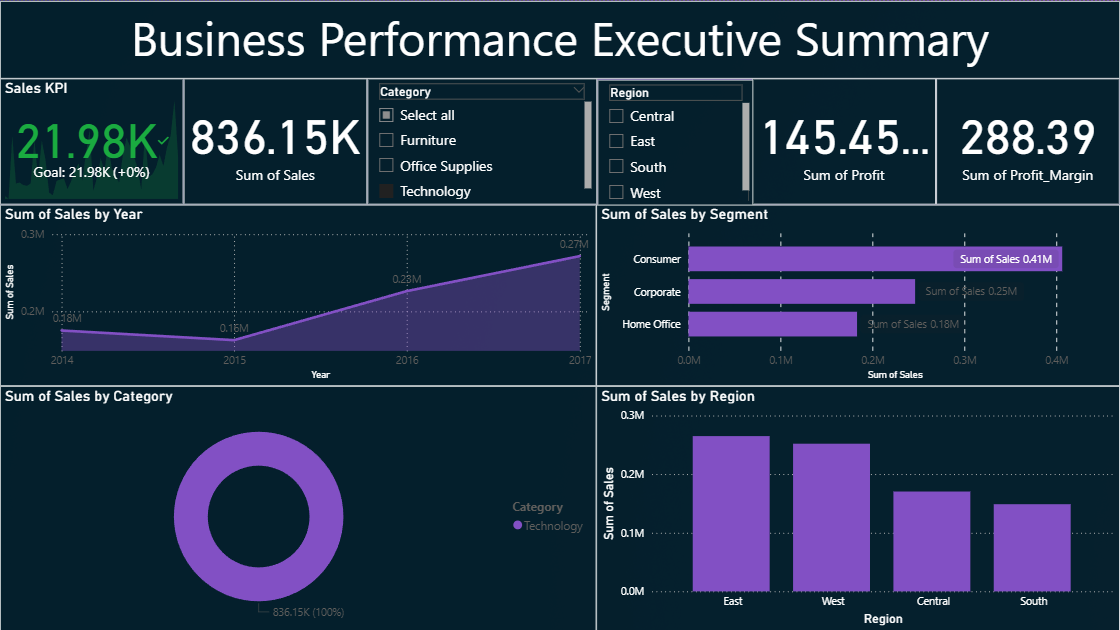

Layout of this report page (visuals, bound fields, positions):
{"tool":"powerbi","page":{"name":"Page 1","canvas":[1280,720],"ordinal":0},"visuals":[{"type":"lineChart","fields":{"Category":["Superstore_clean.MonthYear.Variation.Date Hierarchy.Year","Superstore_clean.MonthYear.Variation.Date Hierarchy.Quarter","Superstore_clean.MonthYear.Variation.Date Hierarchy.Month","Superstore_clean.MonthYear.Variation.Date Hierarchy.Day"],"Y":["Sum(Superstore_clean.Sales)"]},"box":[0,233.3,682,207.2],"z":0},{"type":"clusteredColumnChart","fields":{"Category":["Superstore_clean.Region"],"Y":["Sum(Superstore_clean.Sales)"]},"box":[682,440.5,598.3,279.9],"z":1000},{"type":"donutChart","fields":{"Category":["Superstore_clean.Category"],"Y":["Sum(Superstore_clean.Sales)"]},"box":[0,440.5,682,279.9],"z":2000},{"type":"kpi","title":"Sales KPI","fields":{"Indicator":["Sum(Superstore_clean.Sales)"],"TrendLine":["Superstore_clean.YearMonth"],"Goal":["Sum(Superstore_clean.Sales)"]},"box":[0,89.2,209.9,144.1],"z":3000},{"type":"slicer","fields":{"Values":["Superstore_clean.Region"]},"box":[682.9,89.6,179.1,144.3],"z":4000},{"type":"slicer","fields":{"Values":["Superstore_clean.Category"]},"box":[419.9,89.2,262.1,144.1],"z":5000},{"type":"card","fields":{"Values":["Sum(Superstore_clean.Sales)"]},"box":[209.9,89.2,209.9,144.1],"z":6000},{"type":"card","fields":{"Values":["Sum(Superstore_clean.Profit)"]},"box":[860.4,89.2,209.9,144.1],"z":7000},{"type":"card","fields":{"Values":["Sum(Superstore_clean.Profit_Margin)"]},"box":[1070.3,89.2,209.9,144.1],"z":8000},{"type":"clusteredBarChart","fields":{"Category":["Superstore_clean.Segment"],"Y":["Sum(Superstore_clean.Sales)"]},"box":[682,233.3,598.3,207.2],"z":9000},{"type":"textbox","box":[0,0,1280.3,89.2],"z":10000}]}

Visuals, with their boxes in screenshot pixels (x1, y1, x2, y2), scaled from the page's 1280x720 canvas onto the 1120x630 screenshot:
lineChart - Superstore_clean.MonthYear.Variation.Date Hierarchy.Year x Superstore_clean.MonthYear.Variation.Date Hierarchy.Quarter: [0,204,597,385]
clusteredColumnChart - Superstore_clean.Region x Sum(Superstore_clean.Sales): [597,385,1119,629]
donutChart - Superstore_clean.Category x Sum(Superstore_clean.Sales): [0,385,597,629]
"Sales KPI" kpi: [0,78,184,204]
slicer - Superstore_clean.Region: [598,78,754,205]
slicer - Superstore_clean.Category: [367,78,597,204]
card - Sum(Superstore_clean.Sales): [184,78,367,204]
card - Sum(Superstore_clean.Profit): [753,78,937,204]
card - Sum(Superstore_clean.Profit_Margin): [937,78,1119,204]
clusteredBarChart - Superstore_clean.Segment x Sum(Superstore_clean.Sales): [597,204,1119,385]
textbox: [0,0,1119,78]
